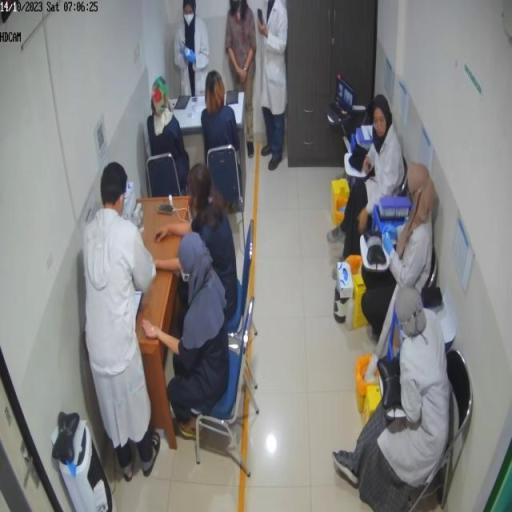person: (333, 287, 452, 510), (83, 163, 161, 481), (144, 230, 231, 445), (154, 163, 239, 330), (362, 171, 439, 345), (329, 94, 408, 259), (257, 2, 290, 172), (202, 71, 243, 196), (148, 77, 191, 195), (226, 1, 258, 159), (174, 2, 211, 97)
